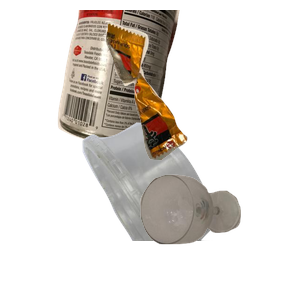glass: (138, 172, 300, 300)
metal: (55, 10, 227, 149)
plastic: (80, 120, 289, 300)
trash: (103, 21, 300, 174)
